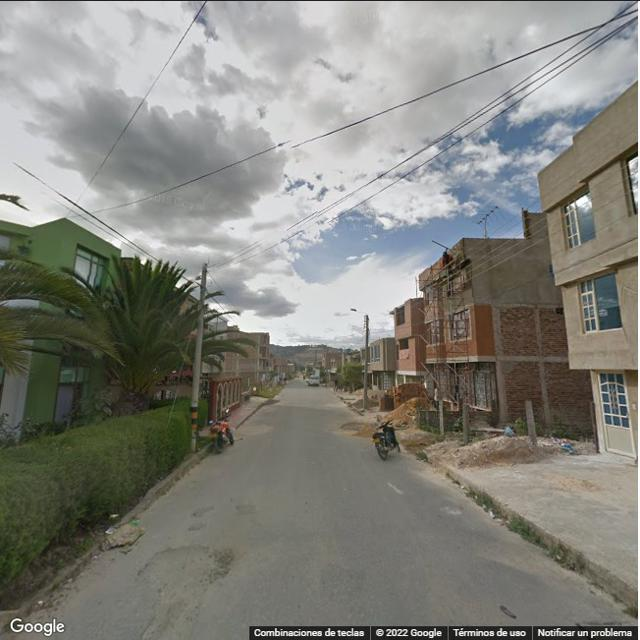D40: (139, 536, 221, 592)
